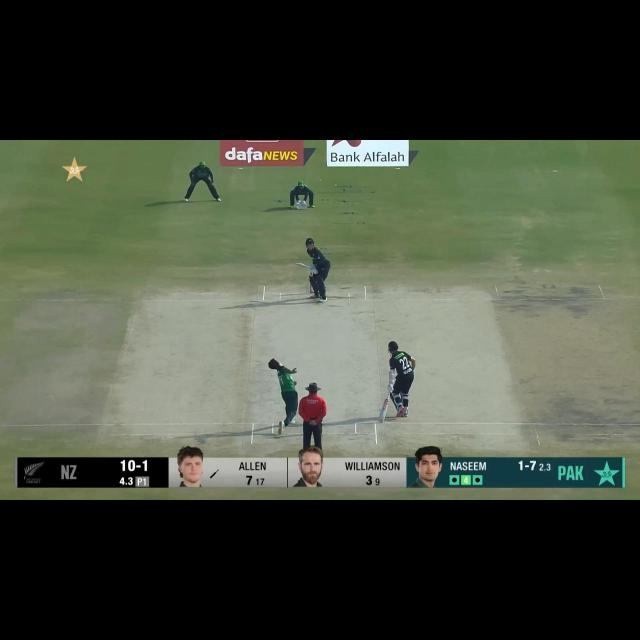bat: (378, 397, 392, 423), (293, 260, 309, 268)
toe: (378, 415, 385, 423), (296, 262, 300, 267)
